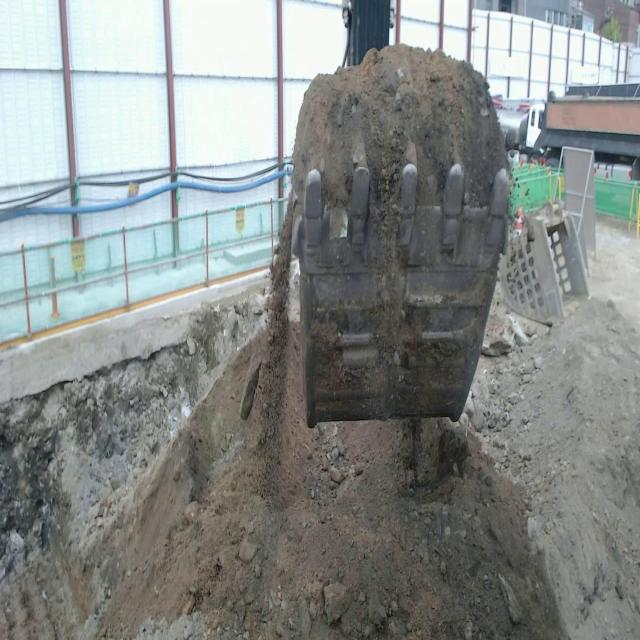red-sand: (101, 322, 564, 639), (288, 44, 507, 252)
white-sand: (481, 300, 640, 639)
